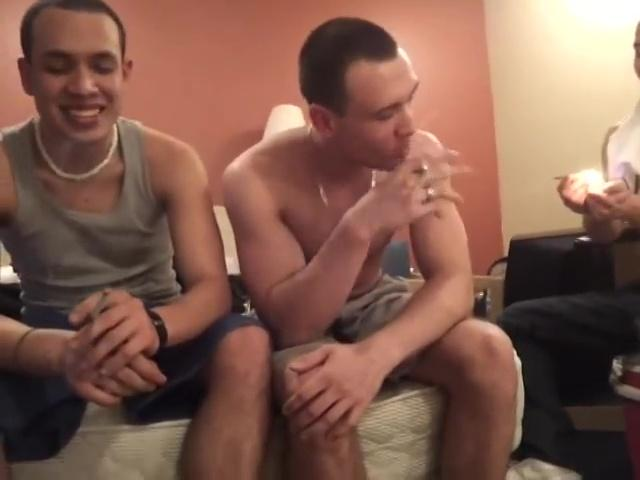cigarette: (87, 288, 113, 328), (417, 161, 430, 181)
